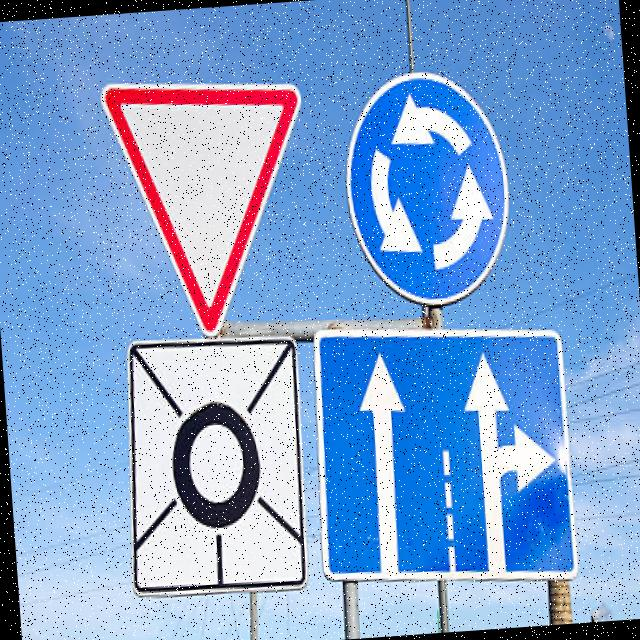round_about: (336, 61, 518, 312)
